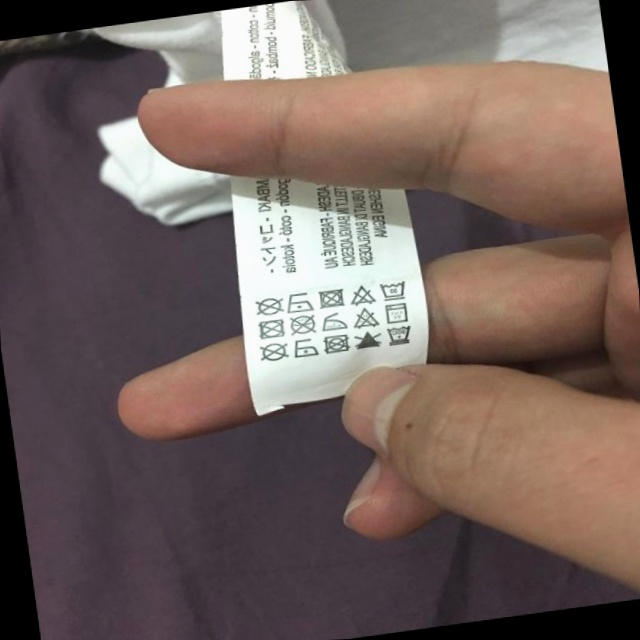30C: (376, 276, 410, 304), (381, 300, 408, 325), (385, 324, 414, 347)
DN_bleach: (351, 306, 381, 331), (353, 329, 382, 351), (349, 283, 375, 306)
DN_dry_clean: (287, 313, 319, 338), (259, 341, 290, 363), (254, 296, 284, 318)
DN_tumble_dry: (317, 285, 347, 311), (322, 331, 352, 356), (257, 318, 287, 341)
iron_low: (284, 291, 315, 316), (291, 336, 320, 361), (318, 310, 348, 332)
